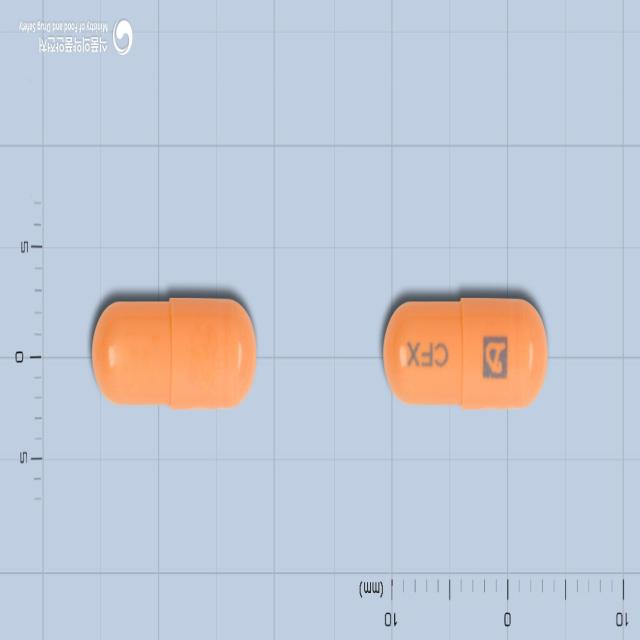Ciploxcin: (90, 295, 256, 413), (382, 295, 548, 411)
